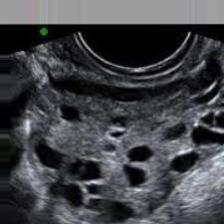pcos: (31, 59, 224, 224)
